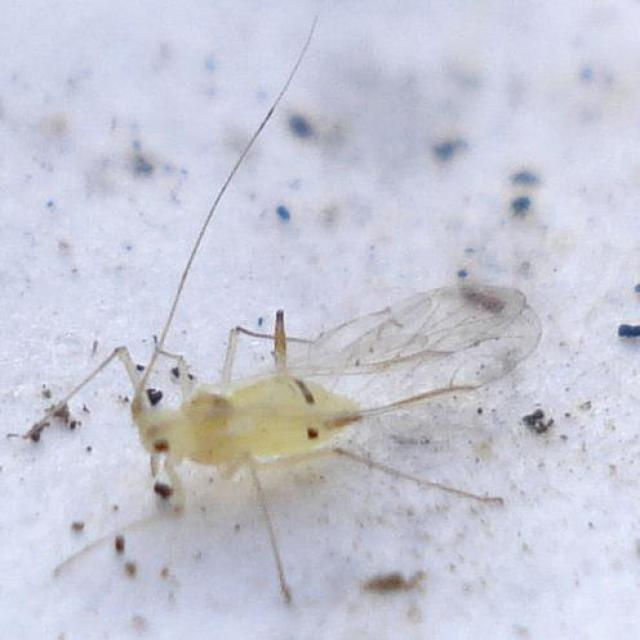Aphids: (30, 212, 585, 596)
